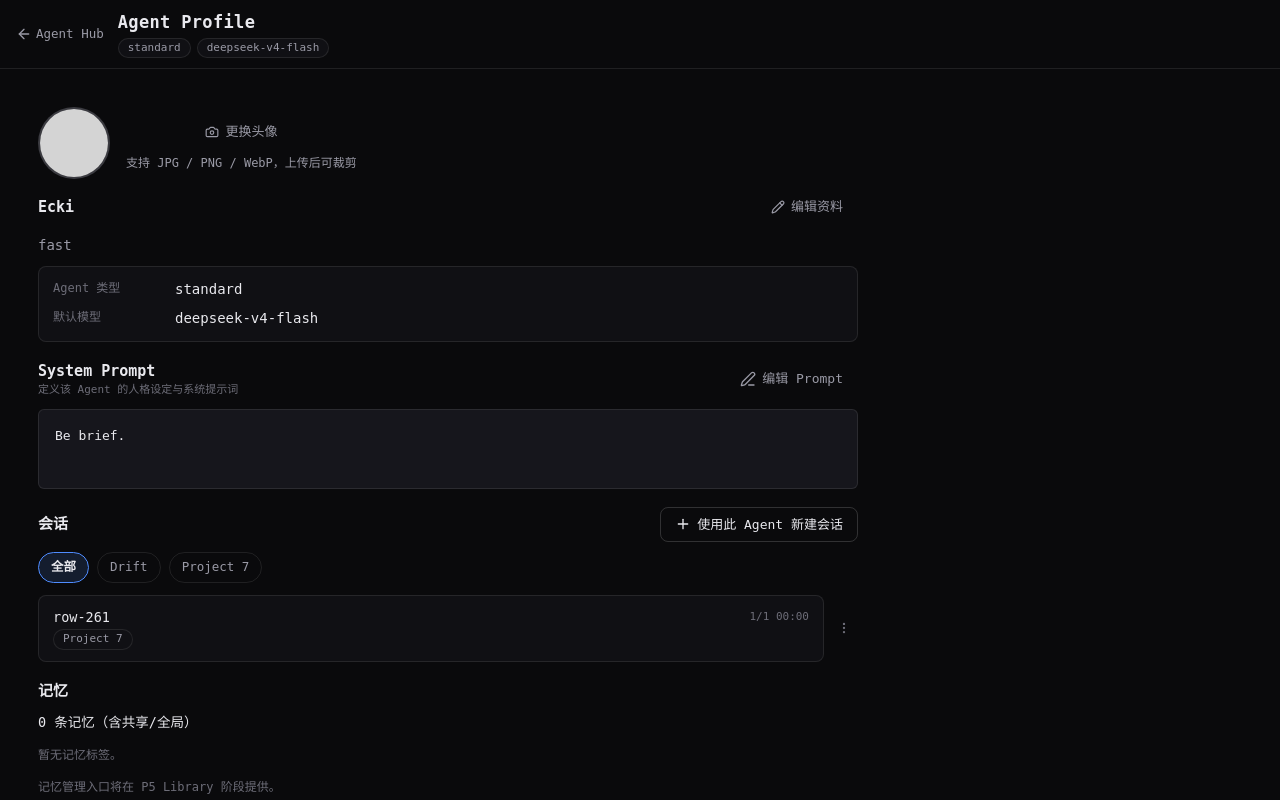
Test: CP1 R1 repair — truthful Project identity on rows › empty Drift subset keeps the honest empty list and advisory copy, never zero-Agent copy
This screenshot has width=1280, height=800.
Click the radio button labelled "Drift": (129, 567) [97,552,161,583]
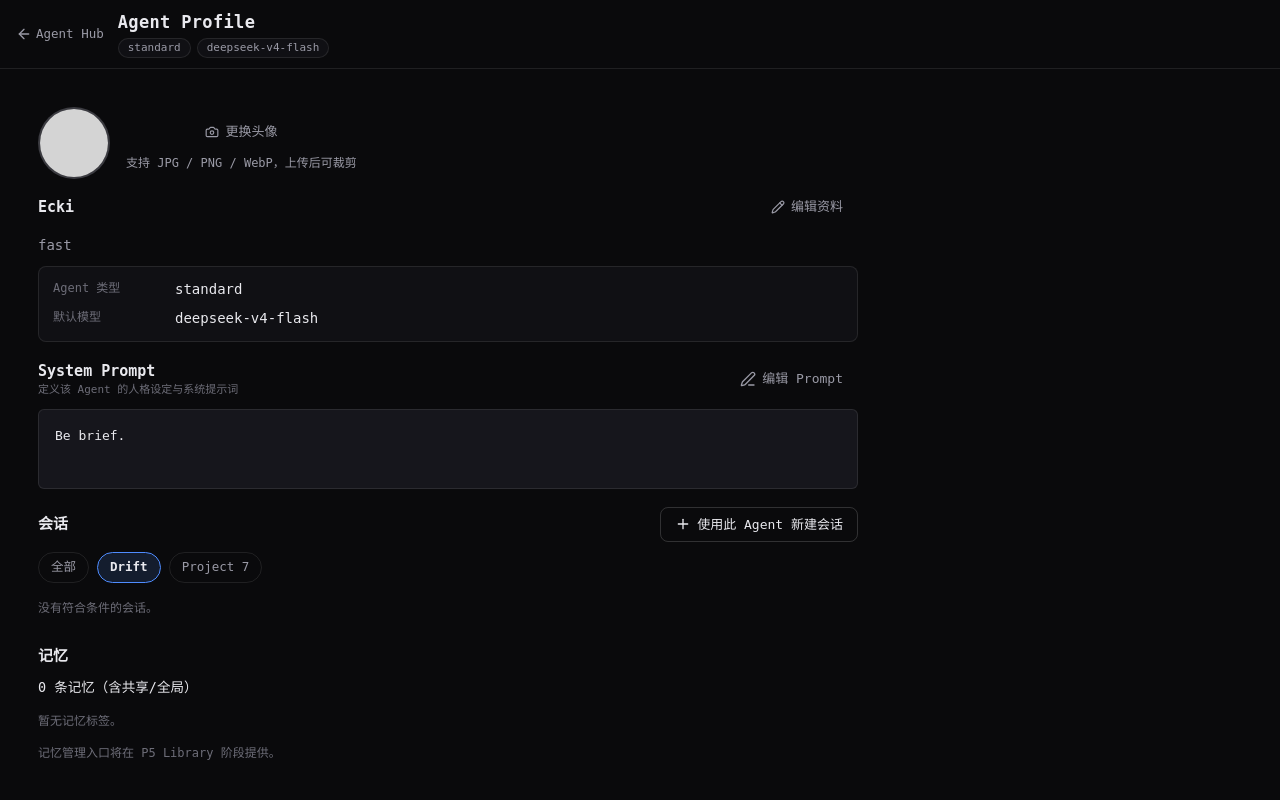
Check: the radio button labelled "Drift" is checked, box [97,552,161,583]
Check: the link "row-261" is gone
Check: the text "没有符合条件的会话。" is shown, box [38,601,158,615]
